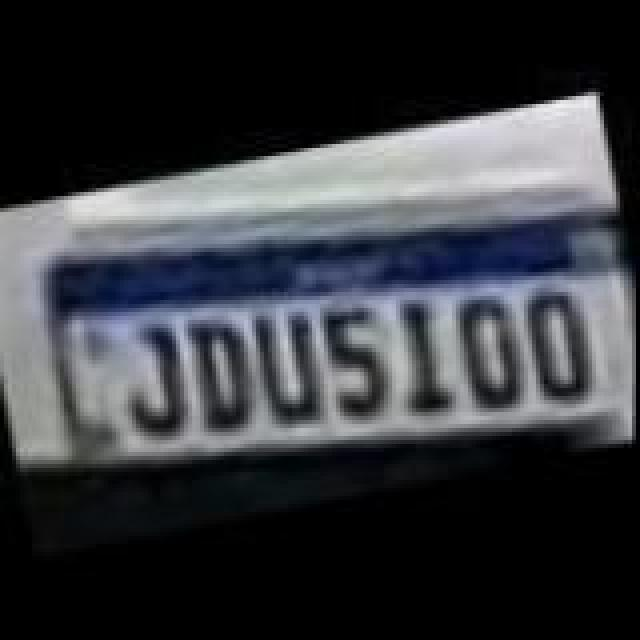5: (314, 298, 398, 422)
D: (446, 290, 538, 418), (178, 308, 262, 436), (514, 280, 598, 404)
I: (386, 294, 470, 418)
J: (112, 318, 204, 442)
U: (242, 300, 326, 428)
